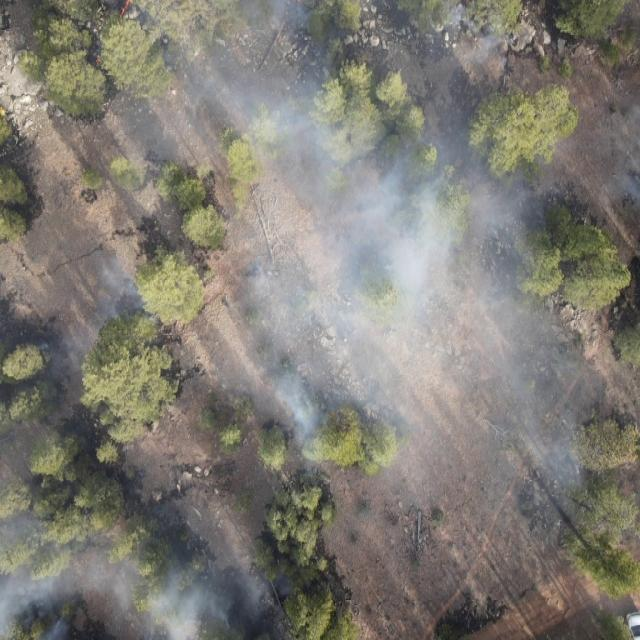fire: (114, 0, 134, 20), (91, 53, 102, 68)
smoke: (154, 1, 582, 476), (0, 506, 285, 640), (53, 255, 159, 375), (605, 108, 640, 212)
